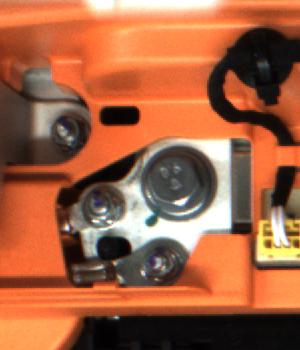nut_b: (138, 143, 218, 221)
screw_s: (140, 242, 177, 281), (83, 186, 117, 225), (50, 111, 79, 149)
